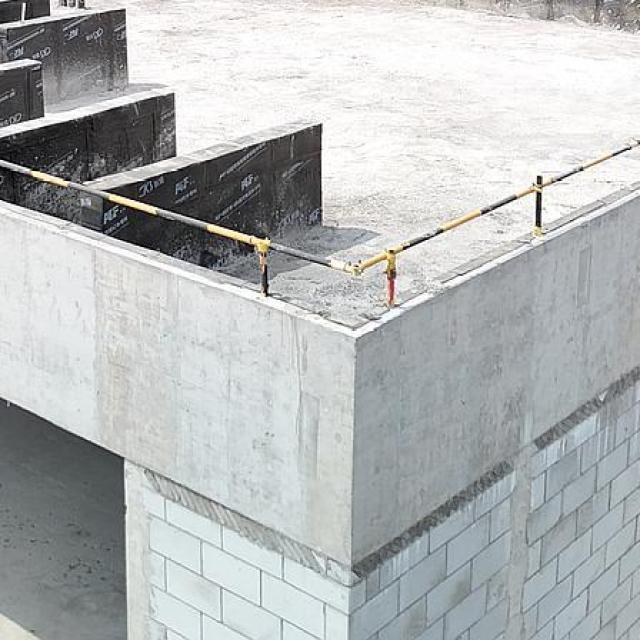edge_guardrail: (1, 138, 640, 308)
